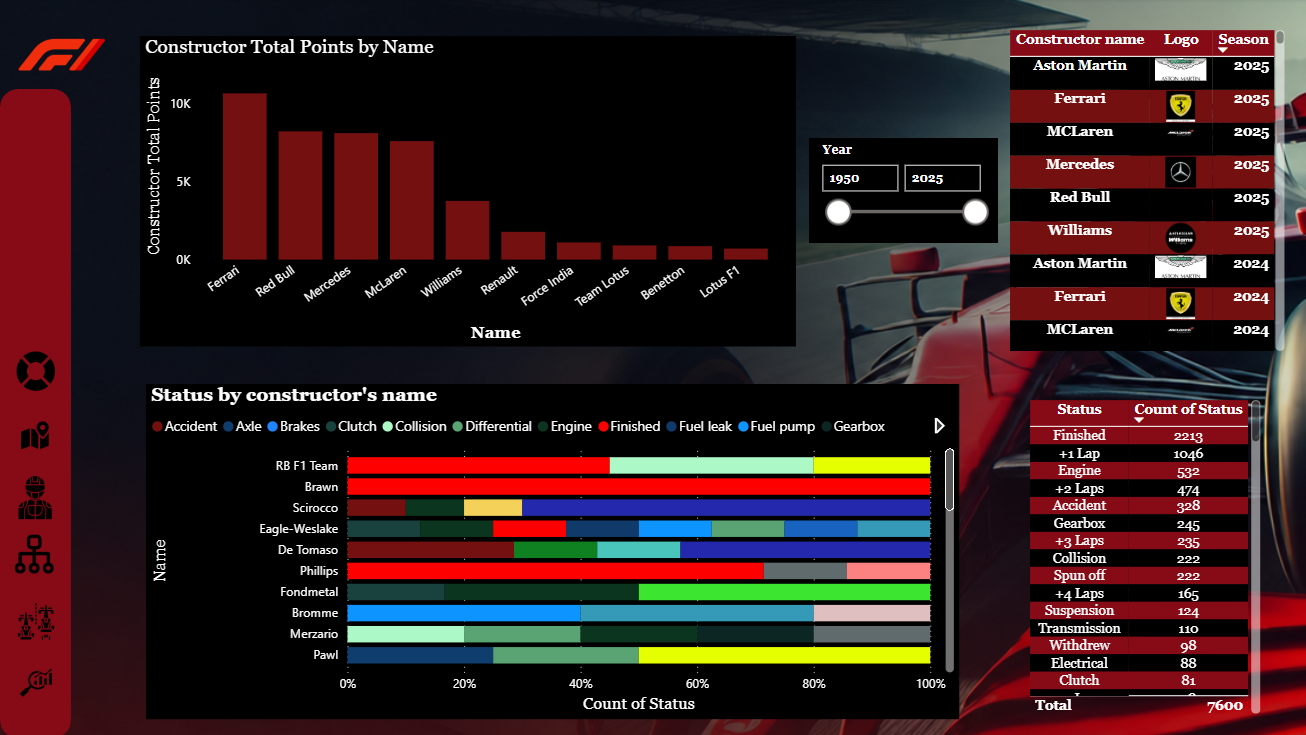

What the dashboard file says about the page in this screenshot:
{"tool":"powerbi","page":{"name":"Constructors","canvas":[1280,720],"ordinal":4},"visuals":[{"type":"tableEx","fields":{"Values":["constructors logos.Constructor name","constructors logos.Logo URL","constructor_standings.Season"]},"box":[980.4,26.3,278.2,321.9],"z":0},{"type":"shape","box":[3.9,88.5,69.1,631.2],"z":1000},{"type":"clusteredColumnChart","fields":{"Category":["constructor_standings.Round","constructors.Name"],"Y":["constructor_standings.Constructor Total Points"]},"box":[140.1,37,638.1,302.5],"z":2000},{"type":"group","id":"g1","title":"Group 2","box":[10.5,339.5,55.8,350.2],"z":3000},{"type":"slicer","fields":{"Values":["races.Date.Variation.Date Hierarchy.Year"]},"box":[790.8,136.2,182.9,102.1],"z":4000},{"type":"image","box":[0,12.6,128.4,84.6],"z":5000},{"type":"hundredPercentStackedBarChart","title":"Status by constructor''s name ","fields":{"Category":["constructors.Name"],"Y":["CountNonNull(results.Status)"],"Series":["results.Status"]},"box":[145.9,375.4,790.8,325.8],"z":6000},{"type":"tableEx","fields":{"Values":["results.Status","CountNonNull(results.Status)"]},"box":[999.9,386.1,235.4,315.1],"z":7000},{"type":"image","box":[24.4,397.9,26.6,54.5],"z":8000,"group":"g1"},{"type":"image","box":[15.1,465,45.2,41.8],"z":9000,"group":"g1"},{"type":"image","box":[19.8,583.6,36.5,45.7],"z":10000,"group":"g1"},{"type":"image","box":[11.8,521.4,51.1,38.9],"z":11000,"group":"g1"},{"type":"image","box":[21.8,642,32.5,47.7],"z":12000,"group":"g1"},{"type":"image","box":[10.5,339.5,55.8,46.7],"z":14000,"group":"g1"}]}

Visuals, with their boxes in screenshot pixels (x1, y1, x2, y2), scaled from the page's 1280x720 canvas onto the 1306x735 screenshot:
tableEx - constructors logos.Constructor name x constructors logos.Logo URL: l=1000, t=27, r=1284, b=355
shape: l=4, t=90, r=74, b=734
clusteredColumnChart - constructor_standings.Round x constructors.Name: l=143, t=38, r=794, b=347
"Group 2" group: l=11, t=347, r=68, b=704
slicer - races.Date.Variation.Date Hierarchy.Year: l=807, t=139, r=993, b=243
image: l=0, t=13, r=131, b=99
"Status by constructor''s name " hundredPercentStackedBarChart: l=149, t=383, r=956, b=716
tableEx - results.Status x CountNonNull(results.Status): l=1020, t=394, r=1260, b=716
image: l=25, t=406, r=52, b=462
image: l=15, t=475, r=62, b=517
image: l=20, t=596, r=57, b=642
image: l=12, t=532, r=64, b=572
image: l=22, t=655, r=55, b=704
image: l=11, t=347, r=68, b=394
